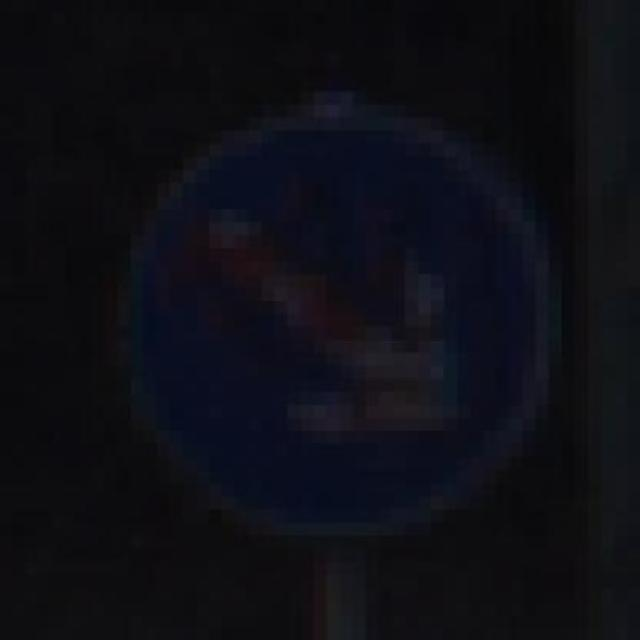Keep-Right: (65, 90, 562, 588)
